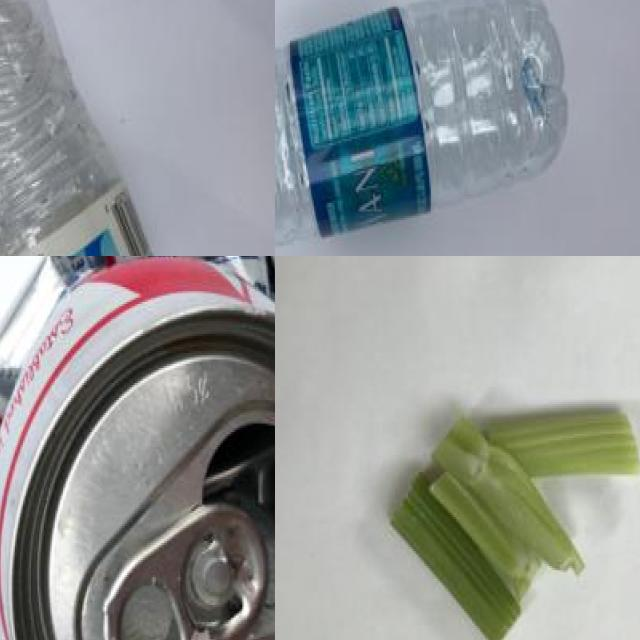compost: (391, 388, 640, 640)
plastic: (0, 256, 275, 640), (275, 0, 568, 240), (0, 0, 204, 256)
